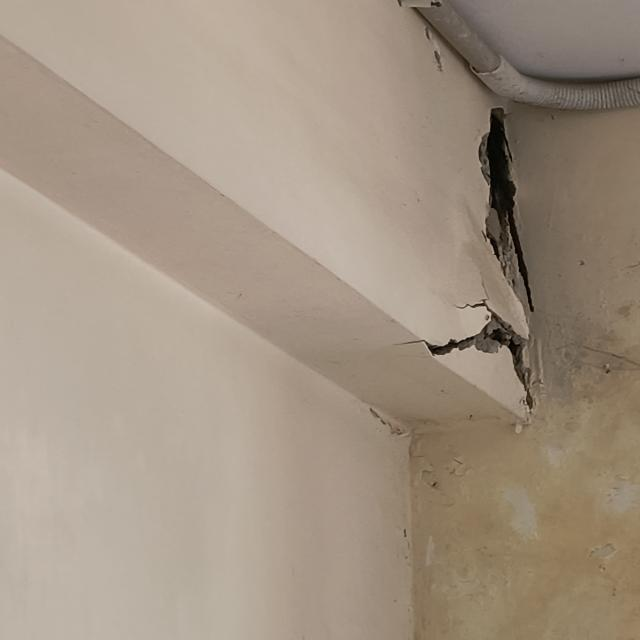peeling: (420, 301, 534, 411), (478, 108, 536, 324), (479, 311, 540, 414), (431, 338, 477, 354)
